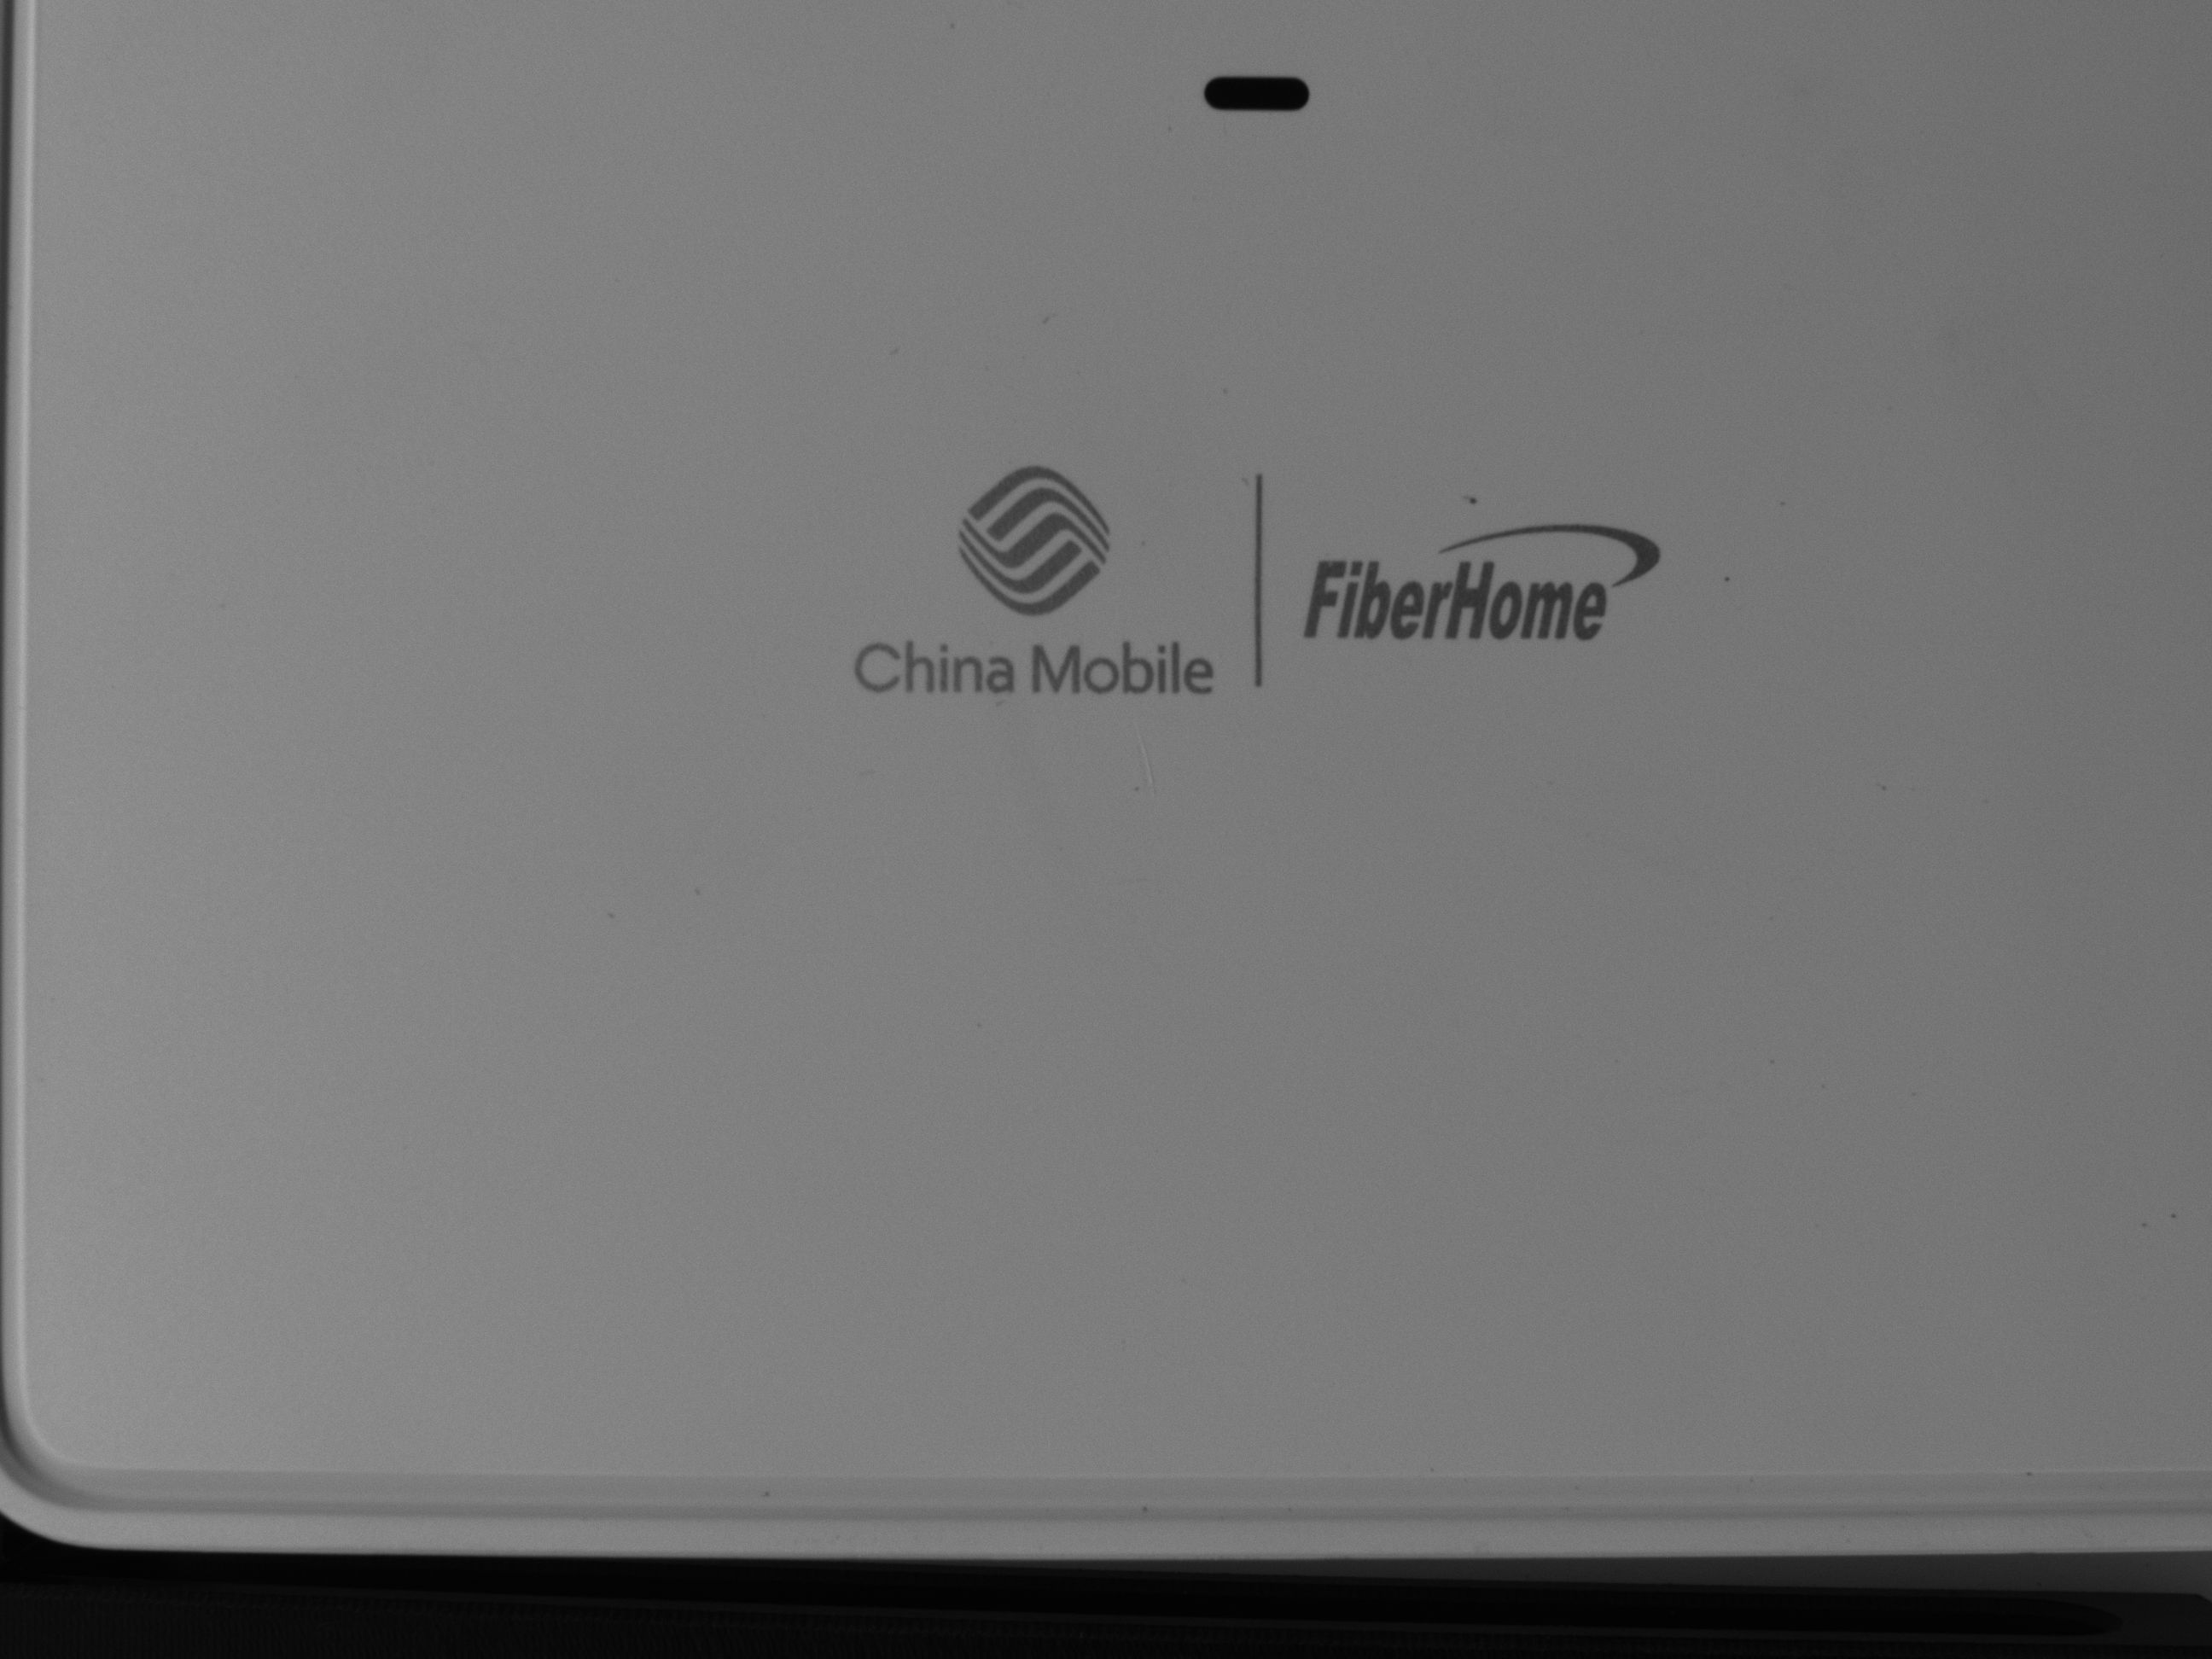BX_HG6371FMobileFiberhome: (819, 444, 1709, 720)
